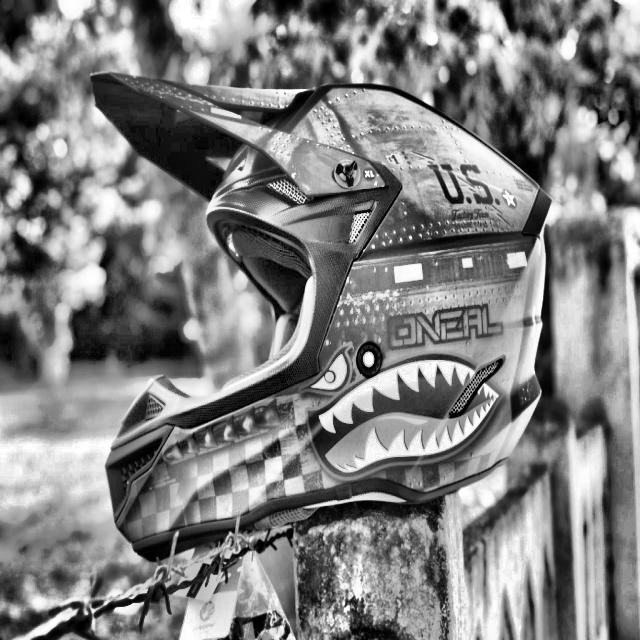Helmet: (83, 61, 557, 556)
